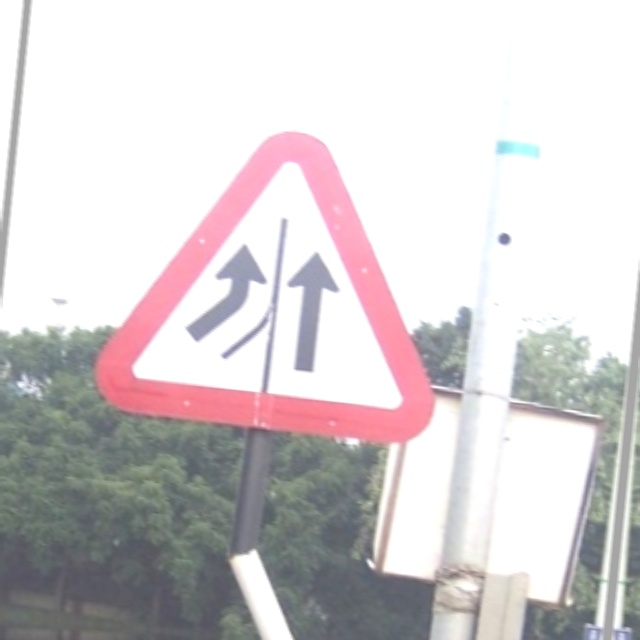Merge_Traffic_Ahead: (84, 107, 470, 464)
